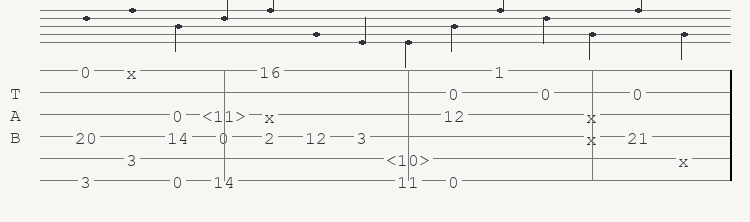0: (80, 63, 95, 78), (172, 173, 187, 188), (172, 107, 187, 122), (218, 129, 233, 144), (448, 85, 463, 100), (448, 173, 463, 188), (540, 85, 555, 100), (632, 85, 647, 100)
1: (494, 63, 509, 78)
11: (397, 173, 423, 188)
12: (305, 129, 331, 144), (443, 107, 469, 122)
14: (167, 129, 193, 144), (213, 173, 239, 188)
16: (259, 63, 285, 78)
2: (264, 129, 279, 144)
20: (75, 129, 101, 144)
21: (627, 129, 653, 144)
3: (80, 173, 95, 188), (126, 151, 141, 166), (356, 129, 371, 144)
harmonic: (202, 107, 250, 122), (386, 151, 434, 166)
x: (126, 64, 141, 76), (264, 108, 279, 120), (586, 108, 601, 120), (586, 130, 601, 142), (678, 152, 693, 164)
